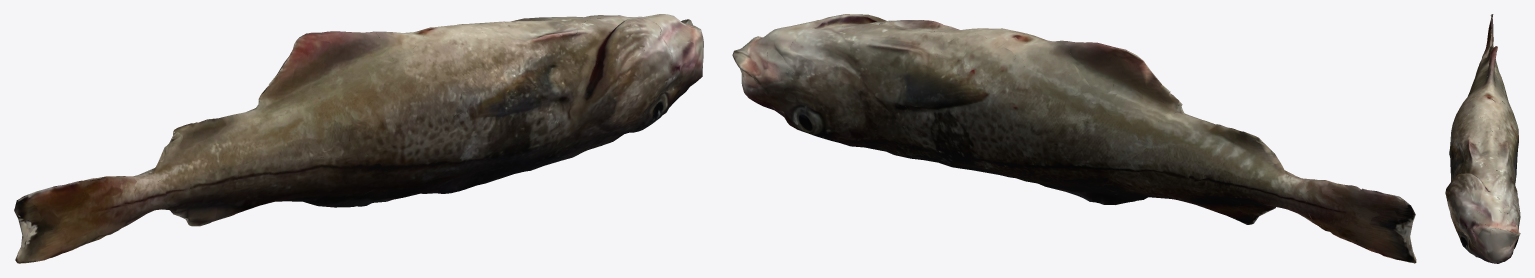
Rendered from fish-haddock.glb.
3 views of the same model, side by side, from view 1: azimuth 30°, elevation 25°; view 2: azimuth 150°, elevation 25°; view 3: azimuth 270°, elevation 25° (orthographic). The views are drawn at different scales.
Visible parts, largest first — view 1: Artec actual fish scan; view 2: Artec actual fish scan; view 3: Artec actual fish scan.
Boxes of the visible parts, left/top/right/bottom form: Artec actual fish scan: left=14, top=14, right=703, bottom=263; Artec actual fish scan: left=732, top=14, right=1416, bottom=263; Artec actual fish scan: left=1445, top=14, right=1520, bottom=263.
Size of the model in its own units: 1.16 by 0.2851 by 0.1662.
1 material, 1 textured.
